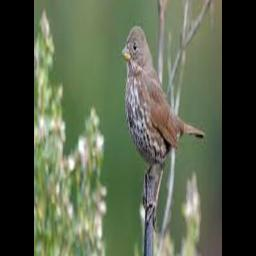Sparrow: (122, 24, 205, 232)
